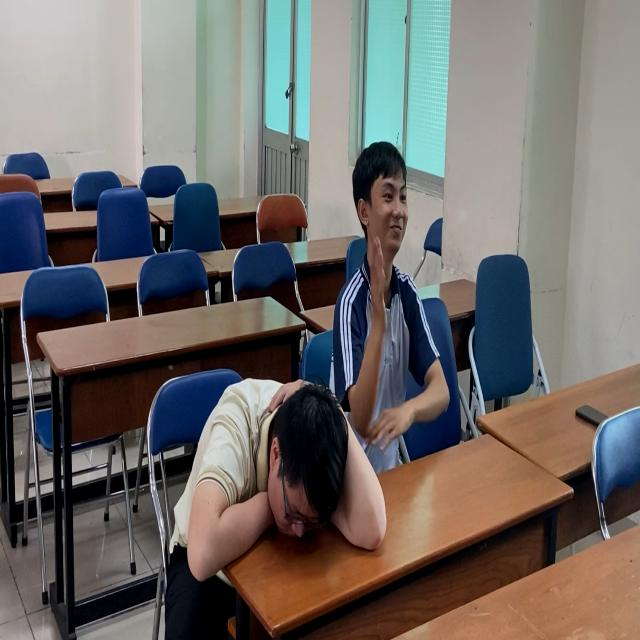raise_hand: (329, 129, 463, 503)
sleep: (161, 365, 391, 590)
